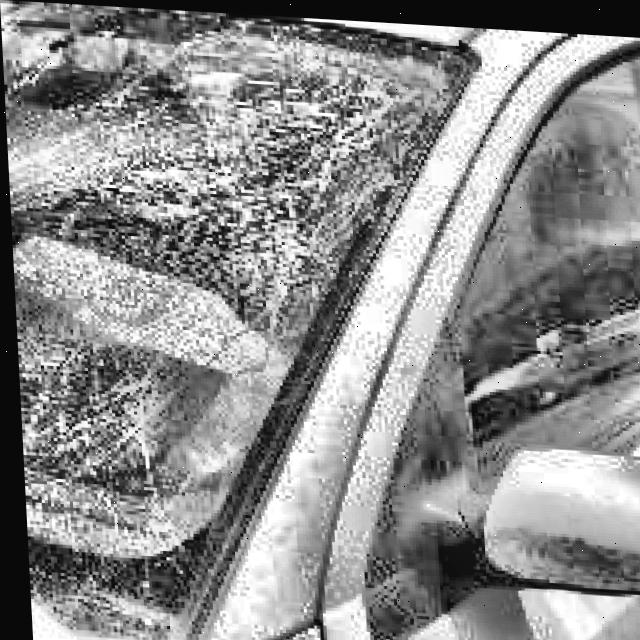glass_shatter: (95, 110, 355, 329)
